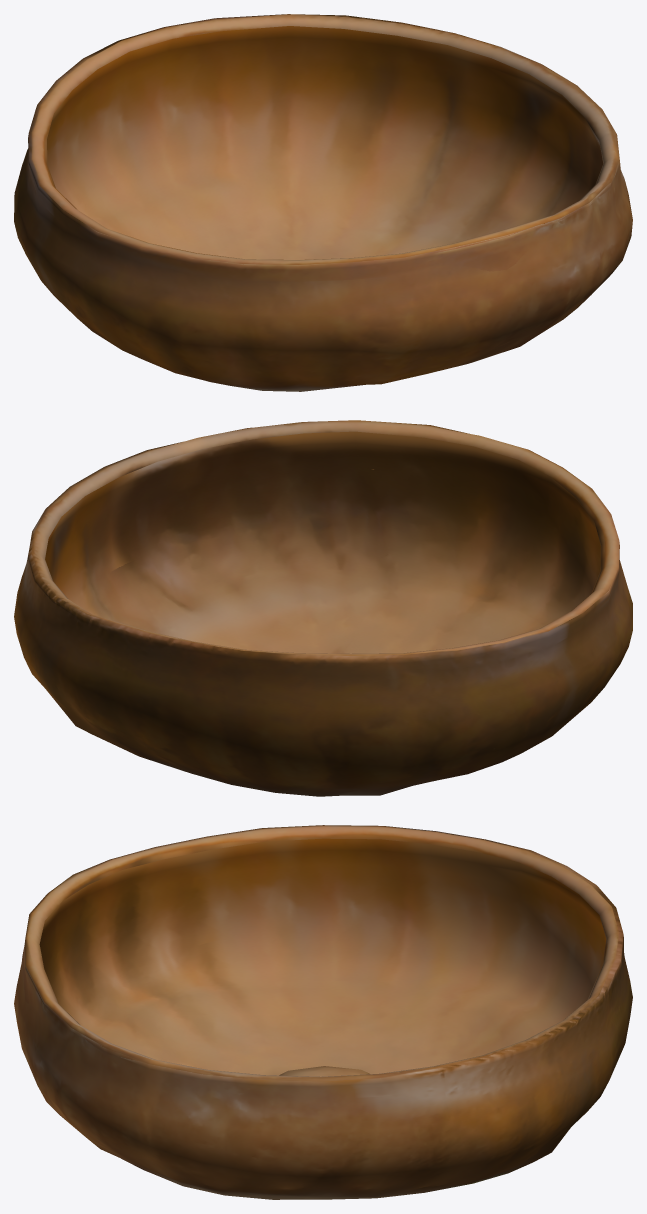
File: cuenco tipo 2.fbx
3 renders of one model, top to bottom at view 1: azimuth 30°, elevation 25°; view 2: azimuth 150°, elevation 25°; view 3: azimuth 270°, elevation 25°, orthographic. The views are drawn at different scales.
Parts seen in each view (by area): view 1: cuenco tipo 2; view 2: cuenco tipo 2; view 3: cuenco tipo 2.
Part boxes in pixels (left/top/right/bottom): cuenco tipo 2: left=14, top=14, right=632, bottom=391; cuenco tipo 2: left=14, top=420, right=632, bottom=796; cuenco tipo 2: left=14, top=825, right=632, bottom=1199.
Size of the model in its own units: 20.41 by 20 by 7.02.
Materials: 1 (1 with a texture image).
